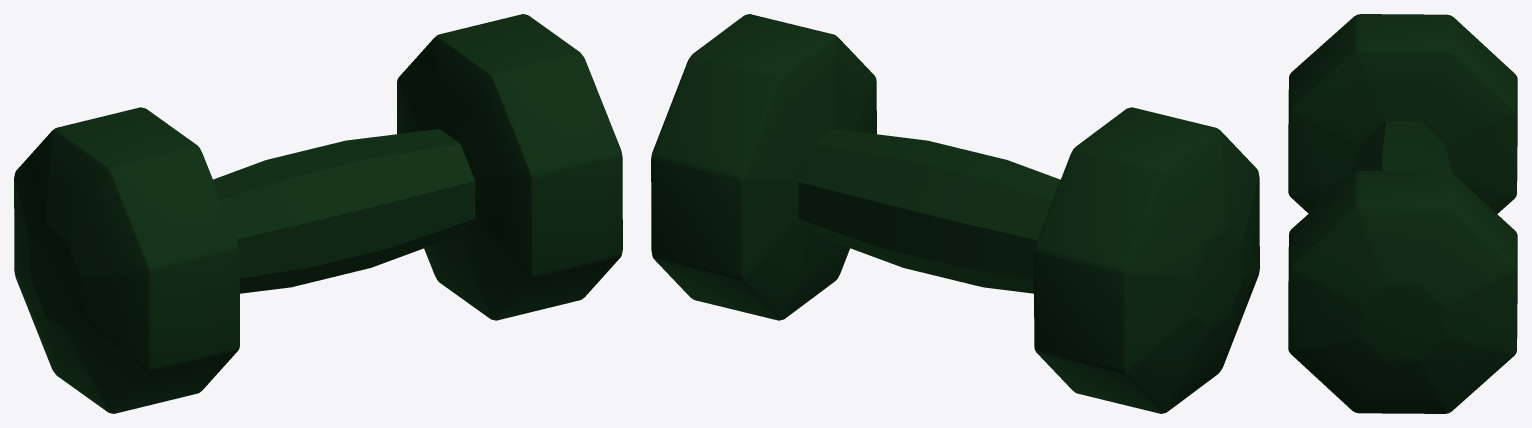
Rendered from Barbel_3Kg.glb.
The picture shows the model from 3 angles, left to right: view 1: azimuth 30°, elevation 25°; view 2: azimuth 150°, elevation 25°; view 3: azimuth 270°, elevation 25°; orthographic projection. The views are drawn at different scales.
Visible parts, largest first — view 1: Barbel 3Kg_GLB; view 2: Barbel 3Kg_GLB; view 3: Barbel 3Kg_GLB.
Part boxes in pixels (left/top/right/bottom): Barbel 3Kg_GLB: left=14, top=14, right=622, bottom=413; Barbel 3Kg_GLB: left=651, top=14, right=1259, bottom=413; Barbel 3Kg_GLB: left=1288, top=14, right=1517, bottom=413.
Bounding box in the file's own units: 0.4081 × 0.1833 × 0.1833.
